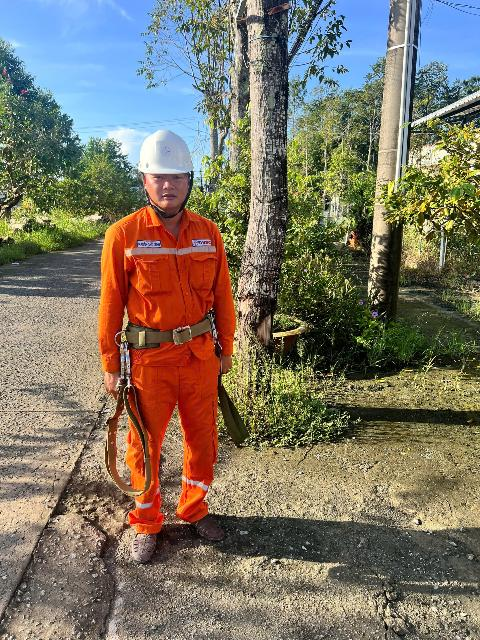harness: (118, 316, 221, 352)
helmet: (124, 120, 200, 184)
shoes: (112, 527, 167, 572), (177, 504, 228, 547)
